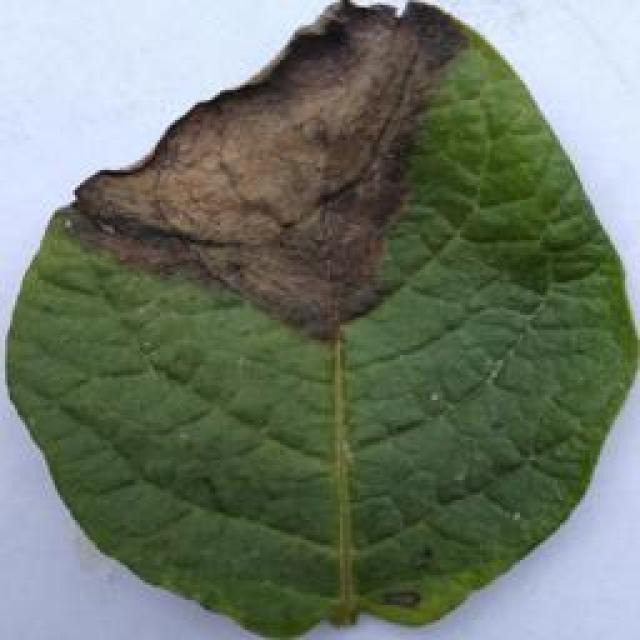Potato_Late_Blight: (4, 10, 634, 638)
